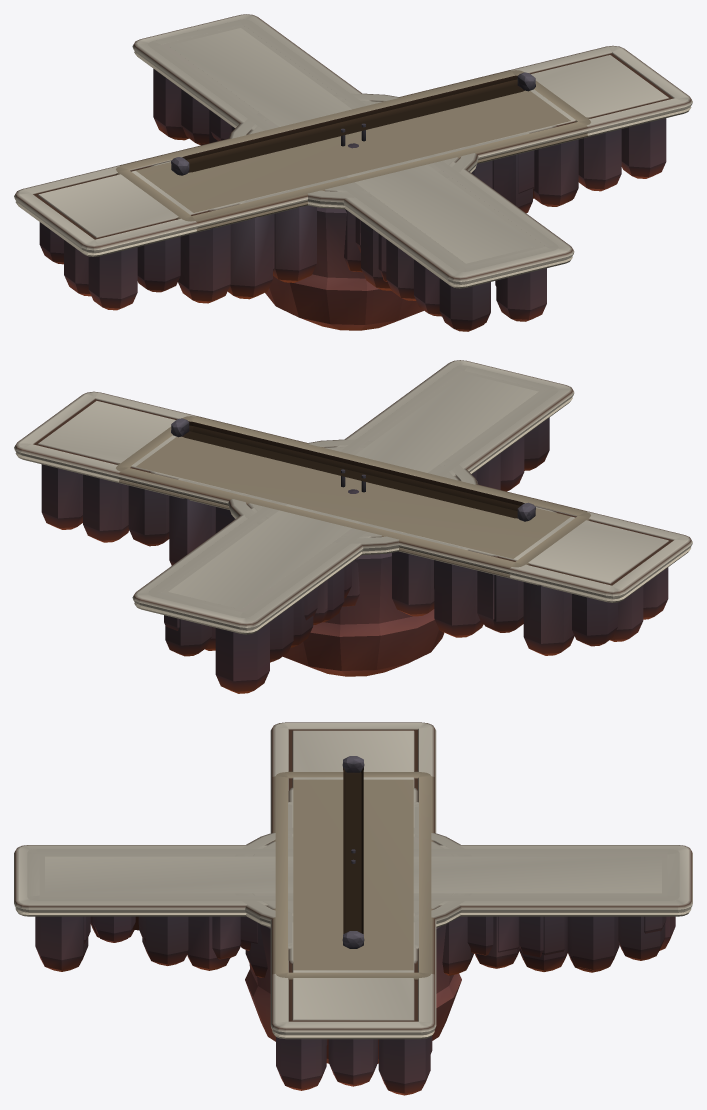
The model's file is volcano-3-Iy02QZZ8.glb.
The picture shows the model from 3 angles, top to bottom: view 1: azimuth 30°, elevation 25°; view 2: azimuth 150°, elevation 25°; view 3: azimuth 270°, elevation 25°; orthographic projection. The views are drawn at different scales.
Visible parts, largest first — view 1: block_44x2x10#0, block_30x2x10_column#0, block_8x2x40#0, block_9x2x41#0, disc_16x1.5#1, mount_12.5#0; view 2: block_44x2x10#0, block_30x2x10_column#0, block_8x2x40#0, block_9x2x41#0, disc_16x1.5#1, mount_12.5#0, block_8x2x40_grate#0; view 3: block_8x2x40#0, block_30x2x10_column#0, block_44x2x10#0, block_9x2x41#0, disc_16x1.5#1, block_8x2x40_grate#0, mount_12.5#0, block_21.5x2x9#1.
Boxes of the visible parts, left/top/right/bottom form: block_44x2x10#0: left=14, top=45, right=692, bottom=310; block_30x2x10_column#0: left=115, top=70, right=590, bottom=303; block_8x2x40#0: left=148, top=19, right=558, bottom=323; block_9x2x41#0: left=132, top=14, right=574, bottom=331; disc_16x1.5#1: left=229, top=93, right=478, bottom=330; mount_12.5#0: left=171, top=72, right=535, bottom=175; block_44x2x10#0: left=14, top=391, right=692, bottom=655; block_30x2x10_column#0: left=116, top=416, right=591, bottom=628; block_8x2x40#0: left=148, top=365, right=558, bottom=662; block_9x2x41#0: left=132, top=360, right=574, bottom=693; disc_16x1.5#1: left=228, top=439, right=477, bottom=676; mount_12.5#0: left=171, top=418, right=535, bottom=521; block_8x2x40_grate#0: left=165, top=580, right=327, bottom=656; block_8x2x40#0: left=27, top=849, right=679, bottom=975; block_30x2x10_column#0: left=272, top=771, right=434, bottom=980; block_44x2x10#0: left=270, top=722, right=436, bottom=1095; block_9x2x41#0: left=14, top=845, right=692, bottom=977; disc_16x1.5#1: left=235, top=828, right=471, bottom=1063; block_8x2x40_grate#0: left=139, top=916, right=665, bottom=972; mount_12.5#0: left=342, top=756, right=364, bottom=948; block_21.5x2x9#1: left=288, top=801, right=418, bottom=949.
Bounding box in the file's own units: 44 × 13.78 × 41.
